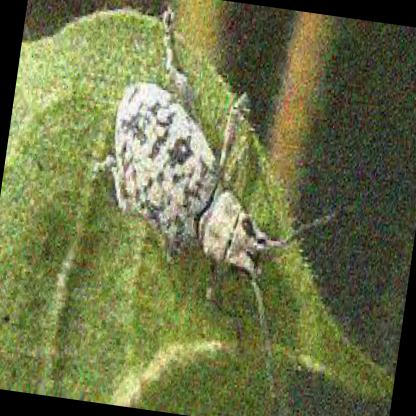ash weevil: (108, 18, 339, 380)
